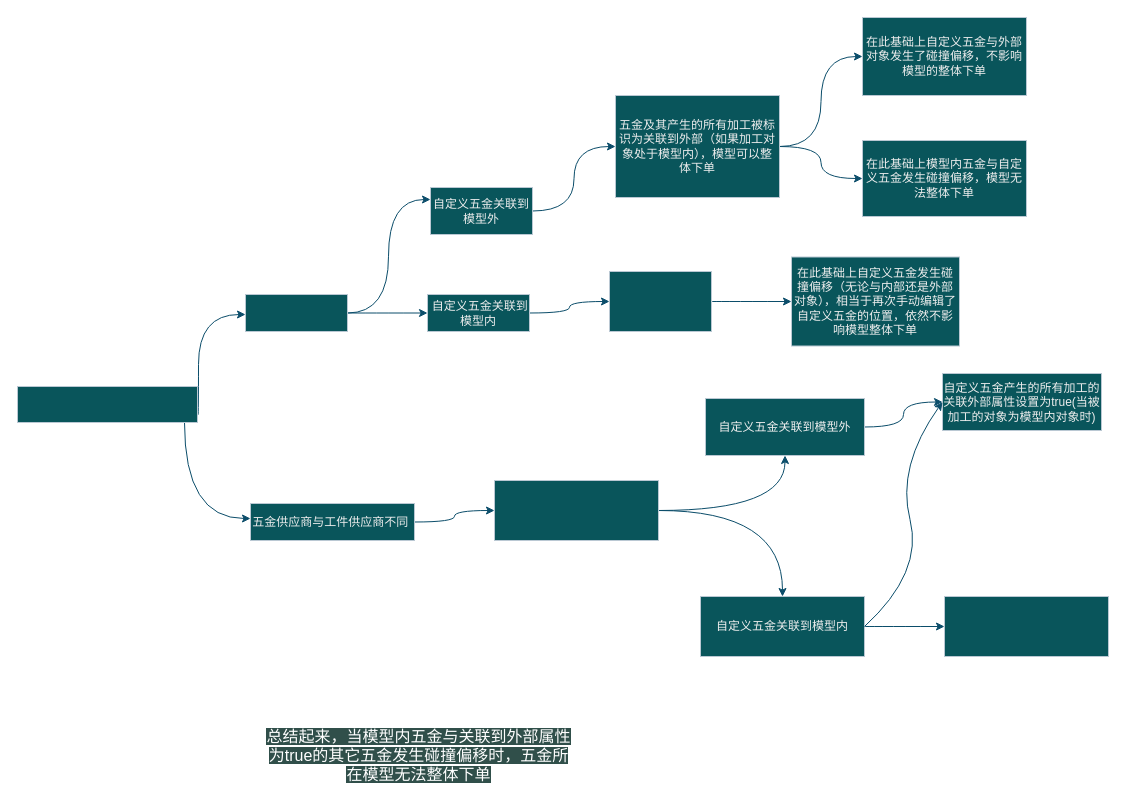
Image size: 1126x802. Some labels were removed from this diagram. The centre of each missing label's shape, as x and y in pixels:
五金关联到外部的标识为false,模型可以整体下单: the point at 660,301
五金的供应商与工件供应商一致: the point at 296,313
模型 工件上添加自定义五金: the point at 107,404
模型内五金没有与自定义五金发生碰撞偏移时，模型可以整体下单: the point at 1026,626
自定义五金关联组件外部属性被设置为true: the point at 576,510
